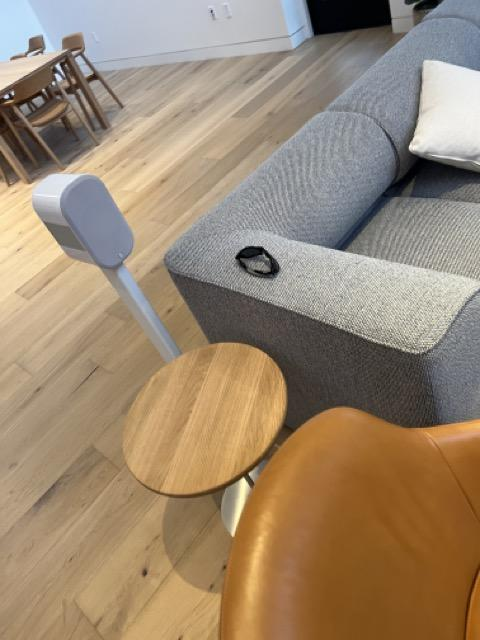Sunglasses: (233, 243, 281, 279)
